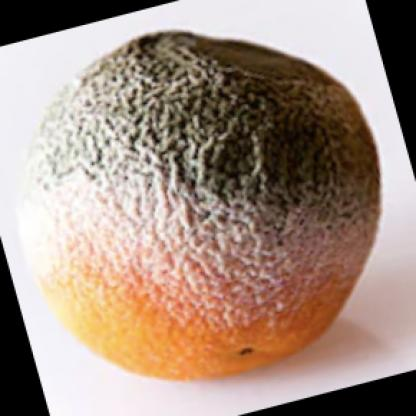rotten: (30, 32, 382, 381)
